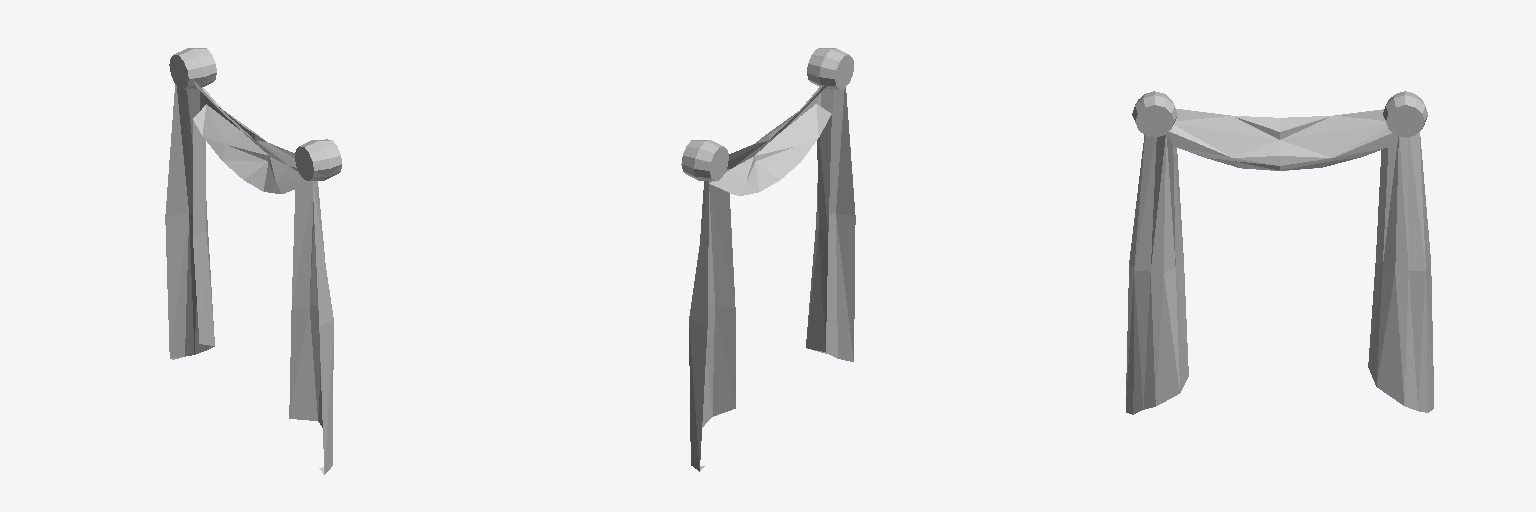
Rendered from drapery01.obj.
The picture shows the model from 3 angles: view 1: azimuth 30°, elevation 25°; view 2: azimuth 150°, elevation 25°; view 3: azimuth 270°, elevation 25°; orthographic projection.
Visible parts, largest first — view 1: drapery010; view 2: drapery010; view 3: drapery010.
Boxes of the visible parts, <box> form: drapery010: <box>165,48,341,474</box>; drapery010: <box>681,48,855,471</box>; drapery010: <box>1126,91,1433,414</box>.
Bounding box in the file's own units: 0.5358 × 5.36 × 4.66.